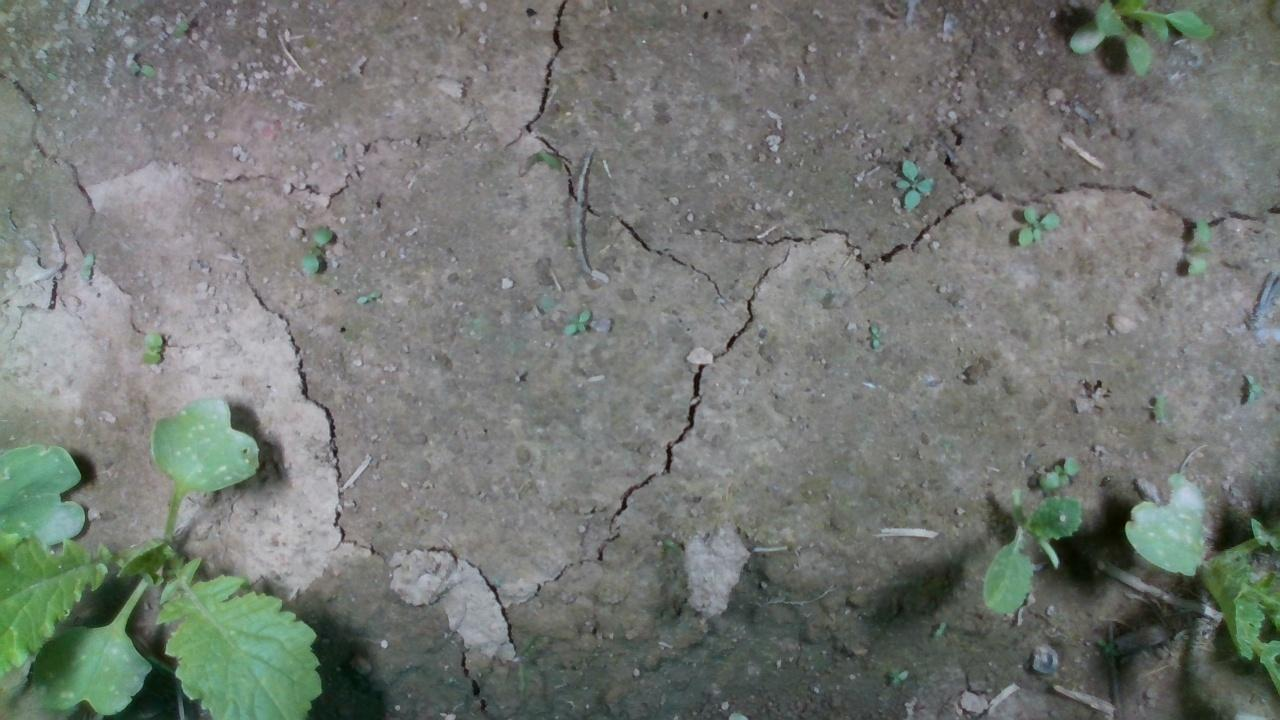weed: (890, 155, 932, 213), (1016, 201, 1058, 246), (299, 225, 333, 276), (1034, 453, 1079, 490), (1184, 215, 1210, 274), (559, 307, 592, 337), (140, 329, 165, 366)
